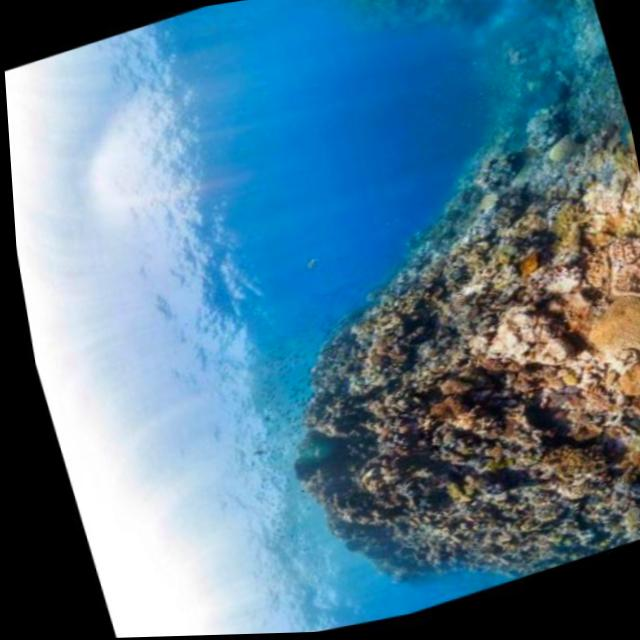Dead Coral: (221, 124, 640, 621)
